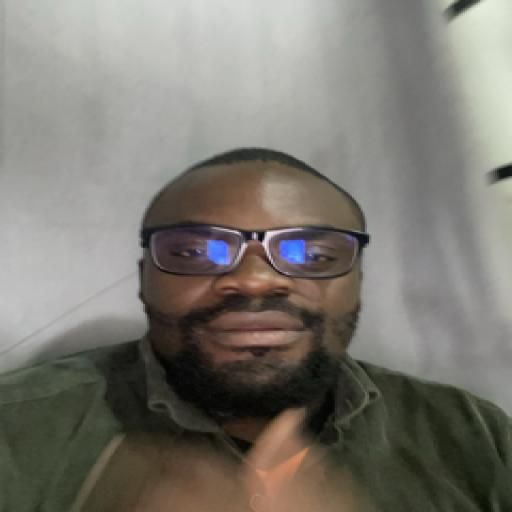JEANLUC: (136, 138, 376, 416)
